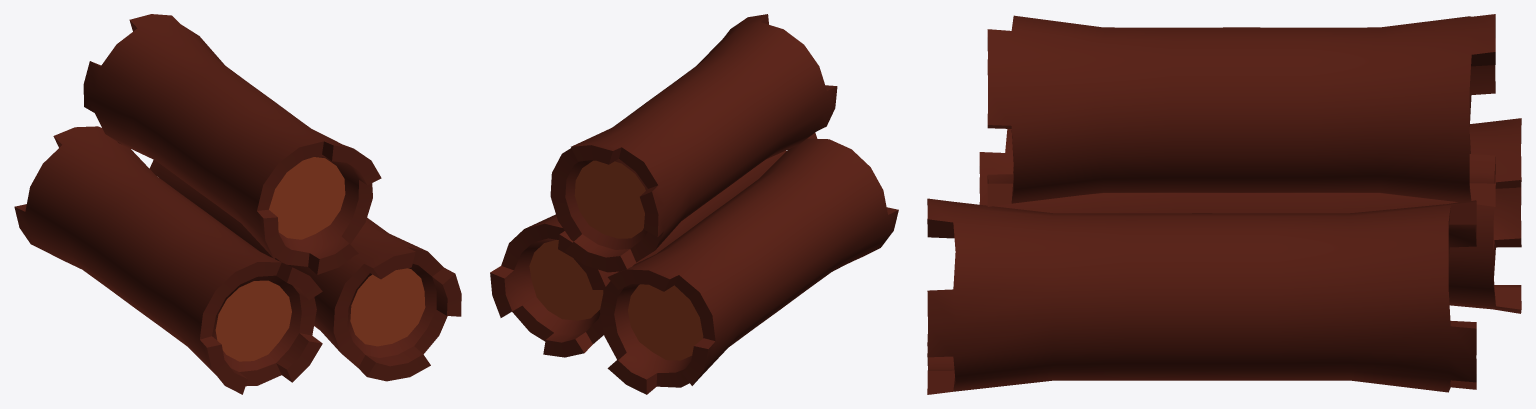
The model's file is logs.obj.
3 renders of one model, left to right at view 1: azimuth 30°, elevation 25°; view 2: azimuth 150°, elevation 25°; view 3: azimuth 270°, elevation 25°, orthographic. The views are drawn at different scales.
Visible parts, largest first — view 1: logs_Cylinder.019; view 2: logs_Cylinder.019; view 3: logs_Cylinder.019.
Part boxes in pixels (x1,y1,x2,y2): logs_Cylinder.019: (14, 14, 461, 394); logs_Cylinder.019: (490, 14, 898, 394); logs_Cylinder.019: (927, 14, 1521, 394).
Size of the model in its own units: 0.6513 by 0.6051 by 1.01.
